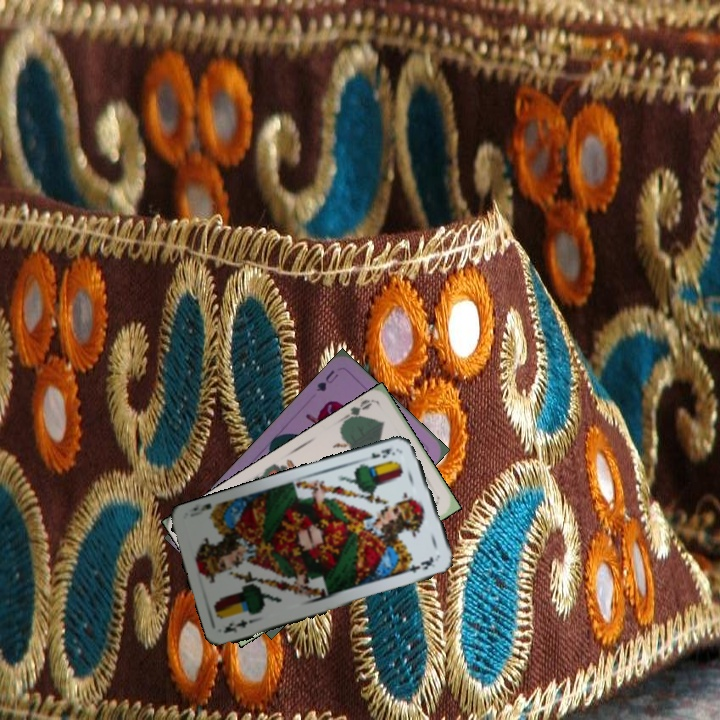EK: (220, 614, 259, 636), (367, 444, 398, 461)
GO: (338, 395, 375, 427)
GU: (312, 366, 341, 394)
